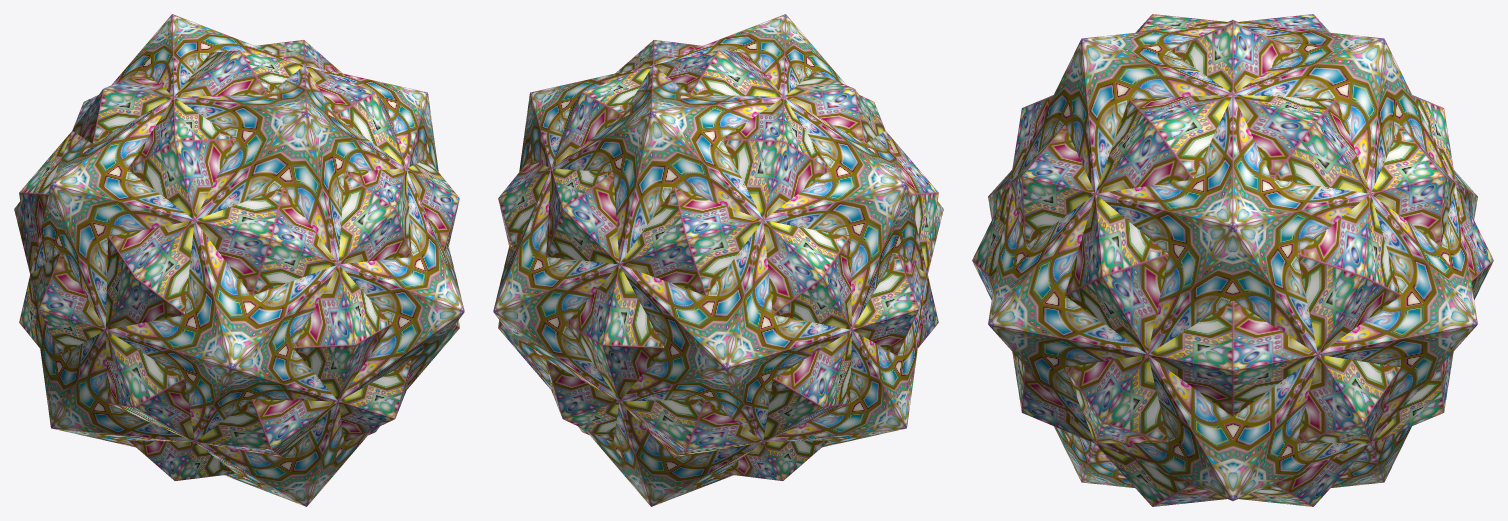
Rendered from 6MedialDeltoidalHexecontahedron.obj.
The picture shows the model from 3 angles, left to right: view 1: azimuth 30°, elevation 25°; view 2: azimuth 150°, elevation 25°; view 3: azimuth 270°, elevation 25°; orthographic projection. The views are drawn at different scales.
Bounding box in the file's own units: 2.68 × 2.68 × 2.68.
1 material, 1 textured.
